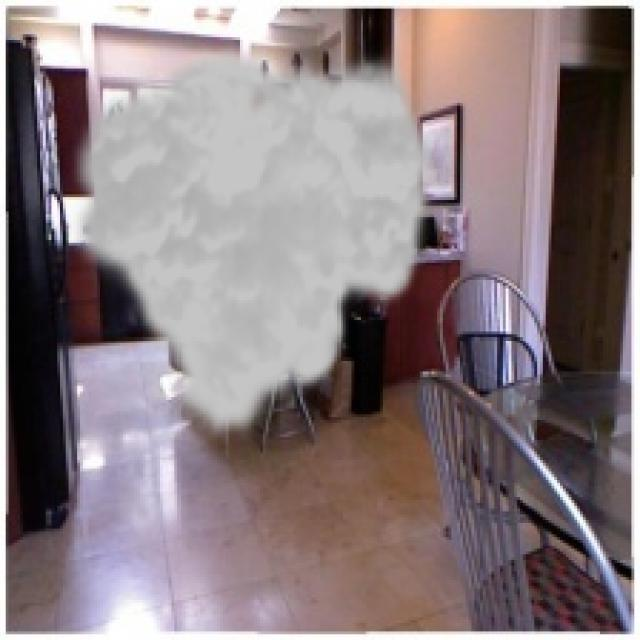Smoke: (63, 43, 440, 446)
